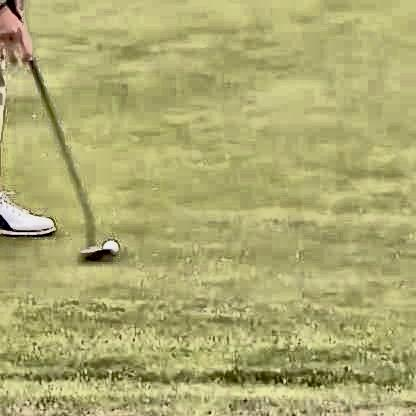golfball: (99, 237, 119, 255)
